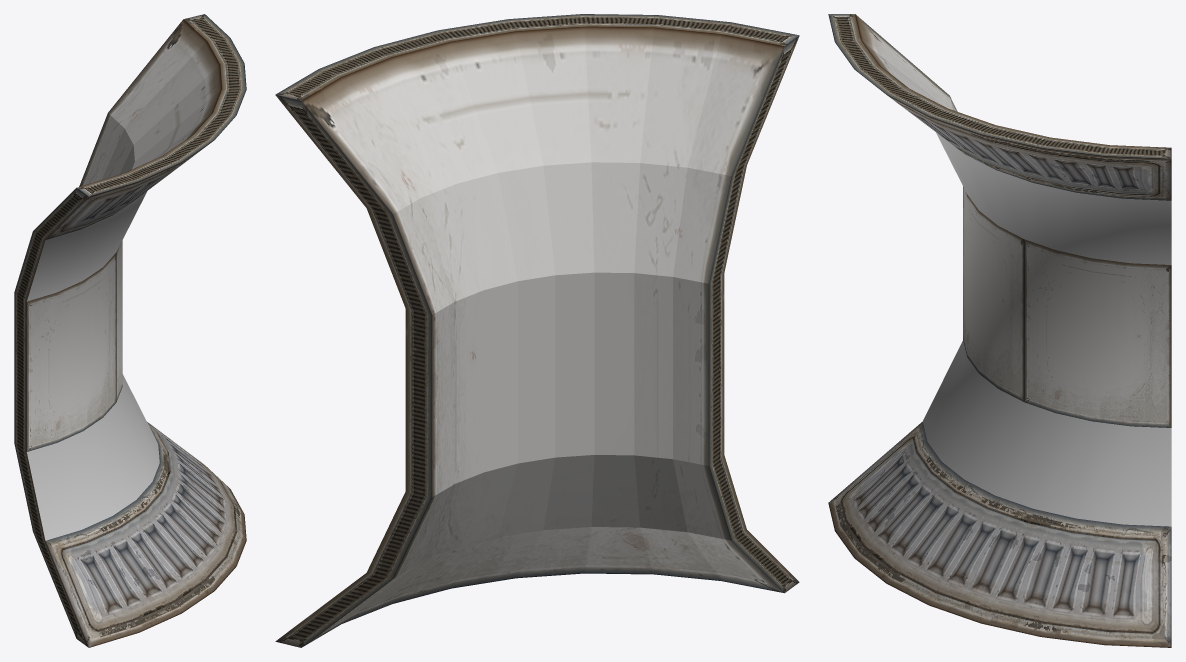
The model's file is scifi_wall_big_curve1_2.FBX.
3 renders of one model, left to right at view 1: azimuth 30°, elevation 25°; view 2: azimuth 150°, elevation 25°; view 3: azimuth 270°, elevation 25°, orthographic. The views are drawn at different scales.
Parts seen in each view (by area): view 1: Plane170; view 2: Plane170; view 3: Plane170.
Part boxes in pixels (x1=…): Plane170: x1=14, y1=14, x2=246, y2=647; Plane170: x1=275, y1=14, x2=799, y2=647; Plane170: x1=828, y1=14, x2=1171, y2=647.
Size of the model in its own units: 323 by 508 by 323.
